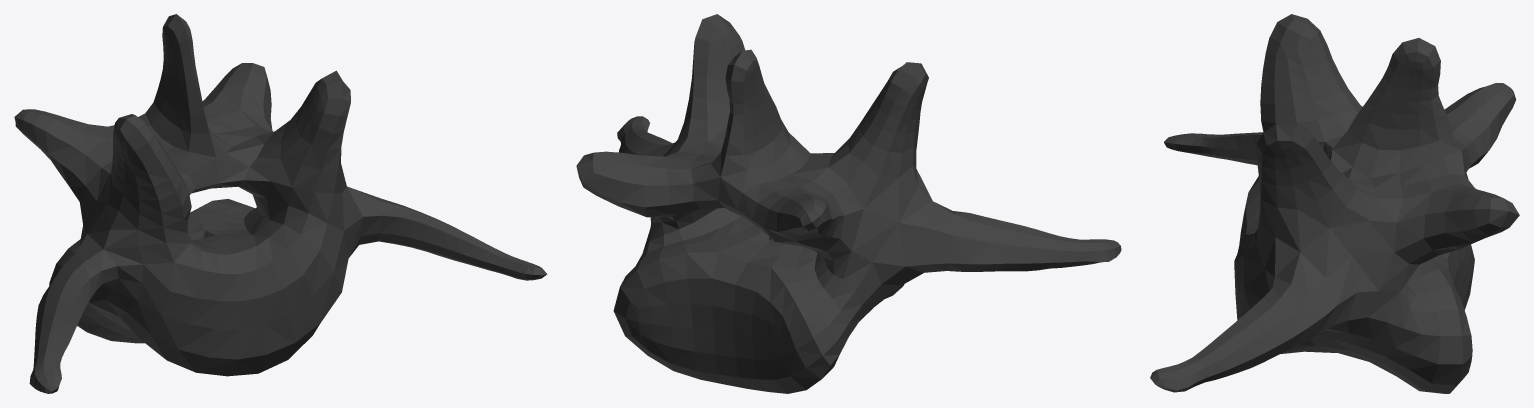
3 views of the same model, side by side, from view 1: azimuth 30°, elevation 25°; view 2: azimuth 150°, elevation 25°; view 3: azimuth 270°, elevation 25° (orthographic).
Visible parts, largest first — view 1: L7; view 2: L7; view 3: L7.
Part boxes in pixels (x1,y1,x2,y2): L7: (14, 14, 547, 393); L7: (576, 14, 1121, 393); L7: (1150, 14, 1519, 393).
Bounding box in the file's own units: 3.94 × 2.47 × 2.49.
Materials: 1 (1 with a texture image).
